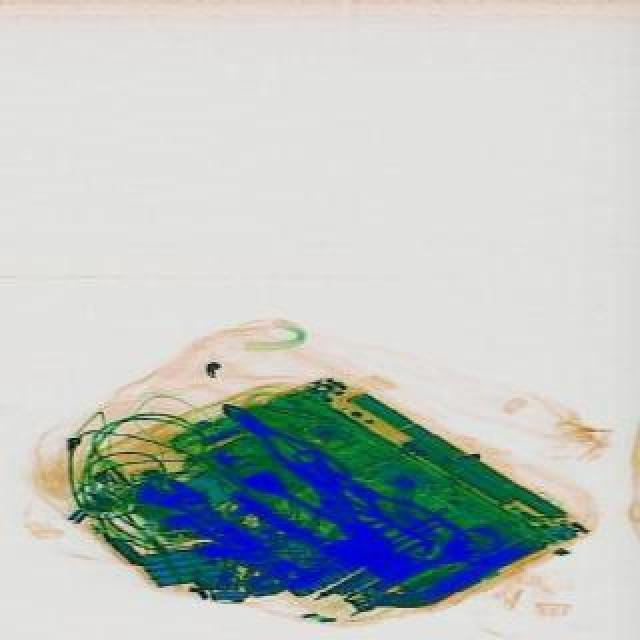wrench: (220, 386, 362, 500), (338, 464, 480, 560)
